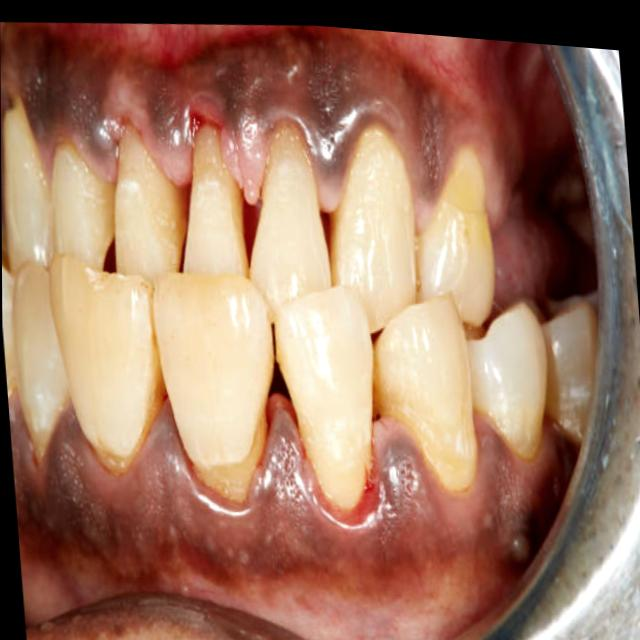gingivitis: (0, 25, 589, 277), (8, 401, 575, 640)
